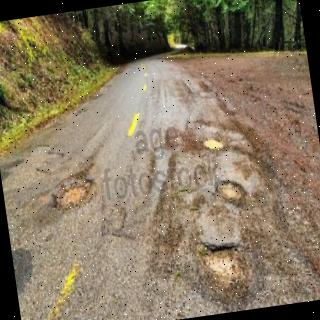pothole: (195, 242, 259, 305), (56, 176, 93, 207), (218, 184, 247, 208), (203, 138, 223, 149)
